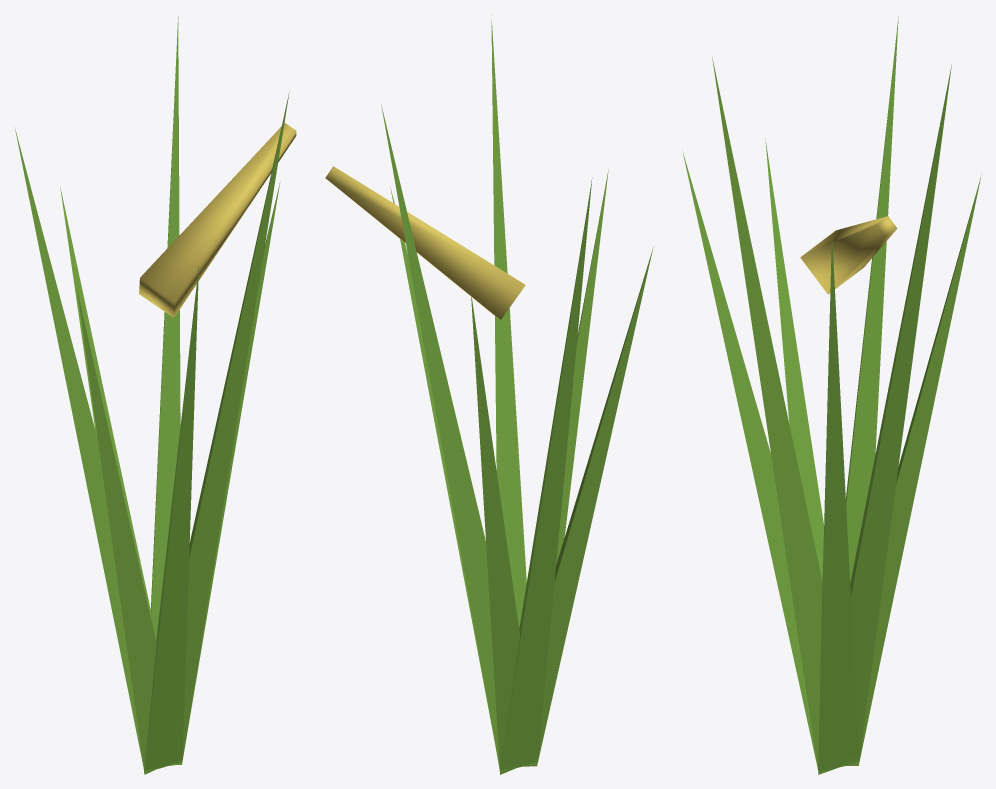
Rendered from prop_padi.glb.
The picture shows the model from 3 angles, left to right: view 1: azimuth 30°, elevation 25°; view 2: azimuth 150°, elevation 25°; view 3: azimuth 270°, elevation 25°; orthographic projection. The views are drawn at different scales.
Visible parts, largest first — view 1: padi; view 2: padi; view 3: padi.
Part boxes in pixels (box(x1,y1,x2,y2)): padi: box(14, 16, 296, 774); padi: box(325, 14, 653, 774); padi: box(682, 16, 981, 774).
Size of the model in its own units: 0.3119 by 0.7558 by 0.273.
